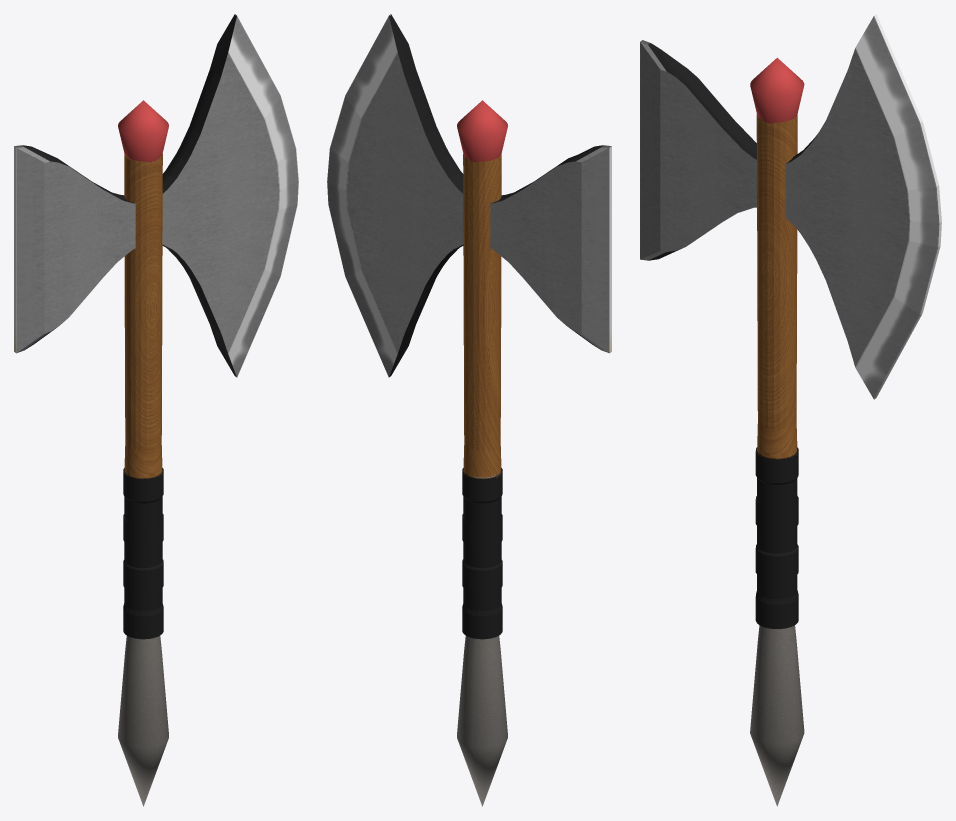
The model's file is BattleAxe.fbx.
3 views of the same model, side by side, from view 1: azimuth 30°, elevation 25°; view 2: azimuth 150°, elevation 25°; view 3: azimuth 330°, elevation 25° (orthographic). The views are drawn at different scales.
Visible parts, largest first — view 1: Head, Handle, End, Eye; view 2: Head, Handle, End, Eye; view 3: Head, Handle, End, Eye.
Part boxes in pixels (x1,y1,x2,y2): Head: (14,14,298,377); Handle: (123,154,163,639); End: (118,635,168,806); Eye: (118,100,168,162); Head: (327,14,611,377); Handle: (462,154,502,639); End: (457,635,507,806); Eye: (457,100,507,162); Head: (640,14,941,399); Handle: (755,114,798,628); End: (750,625,804,806); Eye: (750,57,804,123).
Size of the model in its own units: 1.72 by 4.49 by 0.2704.
1 material, 1 textured.
